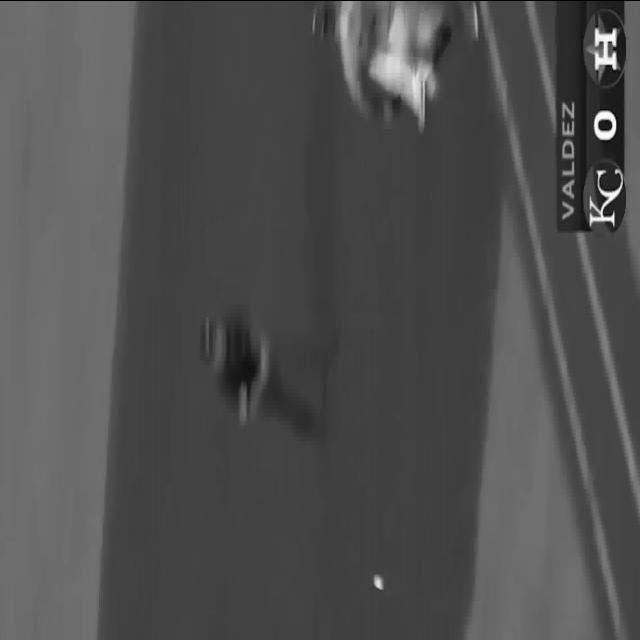baseball: (373, 574, 385, 590)
shoe: (414, 73, 426, 133), (461, 1, 479, 41)
